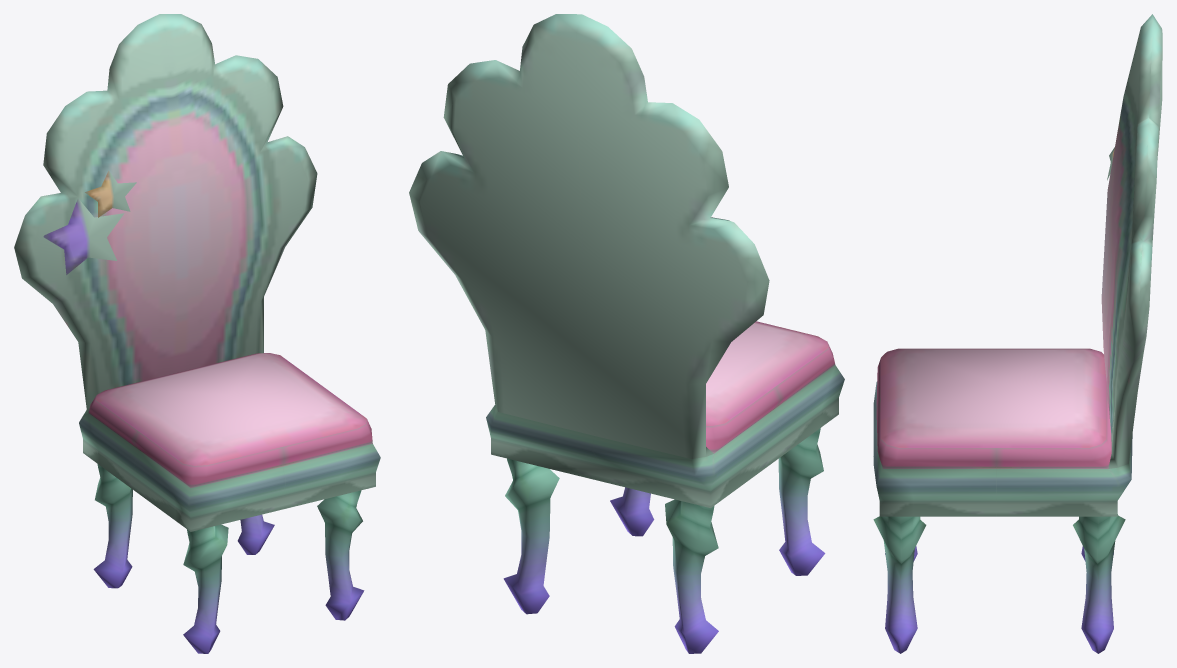
The model's file is int_mmd_chairS.dae.
3 renders of one model, left to right at view 1: azimuth 30°, elevation 25°; view 2: azimuth 150°, elevation 25°; view 3: azimuth 270°, elevation 25°, orthographic. The views are drawn at different scales.
Visible parts, largest first — view 1: int_mmd_chairS; view 2: int_mmd_chairS; view 3: int_mmd_chairS.
Part boxes in pixels (x1,y1,x2,y2): int_mmd_chairS: [14, 14, 380, 653]; int_mmd_chairS: [409, 14, 844, 653]; int_mmd_chairS: [873, 14, 1162, 653].
Size of the model in its own units: 24.16 by 40.92 by 18.07.
1 material, 1 textured.
